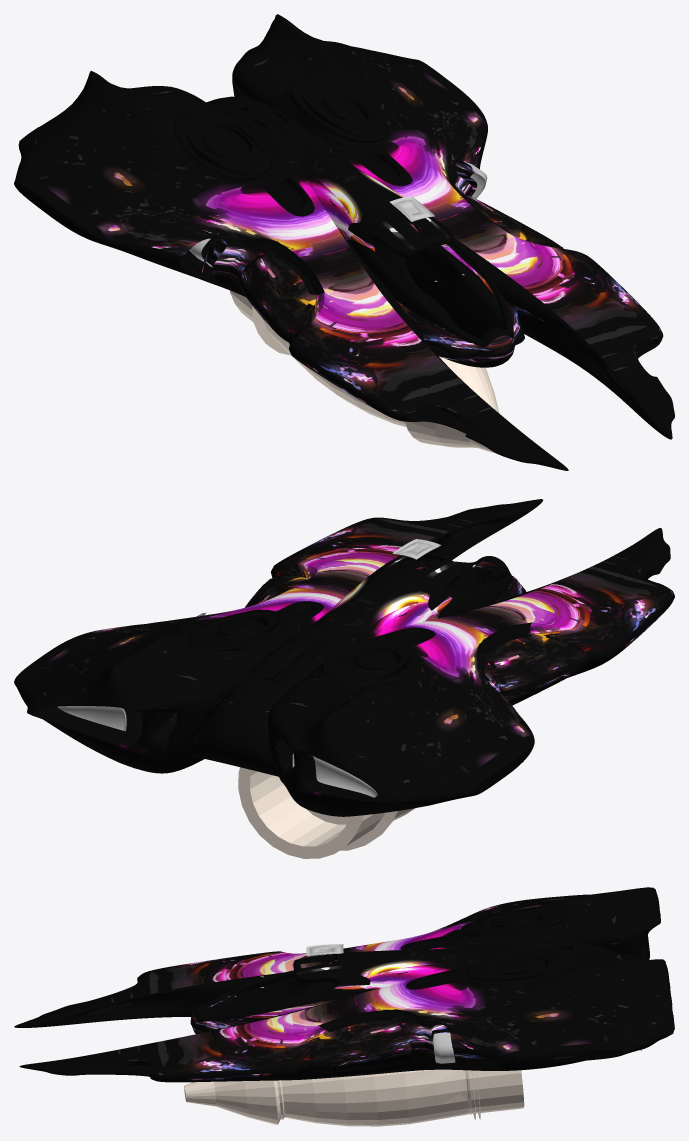
The model's file is 99 bomb.fbx.
3 views of the same model, one above another, from view 1: azimuth 30°, elevation 25°; view 2: azimuth 150°, elevation 25°; view 3: azimuth 270°, elevation 25° (orthographic). The views are drawn at different scales.
Visible parts, largest first — view 1: mesh01, Cylinder; view 2: mesh01, Cylinder, red_mesh01_1, door_usemtl_2; view 3: mesh01, Cylinder, red_mesh01_1, door_usemtl_2.
Part boxes in pixels (box(x1,y1,x2,y2)): mesh01: box(14, 14, 674, 470); Cylinder: box(230, 290, 498, 454); mesh01: box(14, 499, 674, 816); Cylinder: box(238, 767, 415, 858); red_mesh01_1: box(58, 612, 377, 797); door_usemtl_2: box(392, 539, 441, 559); mesh01: box(14, 887, 674, 1082); Cylinder: box(184, 1069, 524, 1126); red_mesh01_1: box(433, 1032, 641, 1063); door_usemtl_2: box(306, 944, 343, 956).
Size of the model in its own units: 328 by 179 by 552.
Materials: 7 (1 with a texture image).
